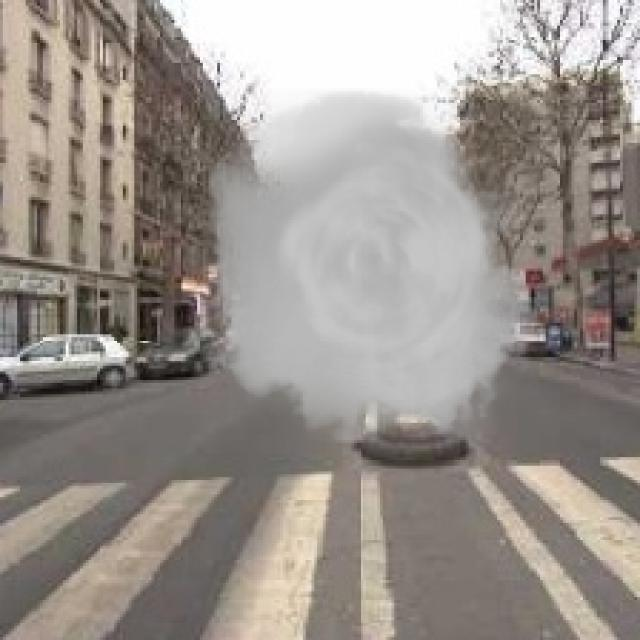smoke: (188, 88, 548, 443)
